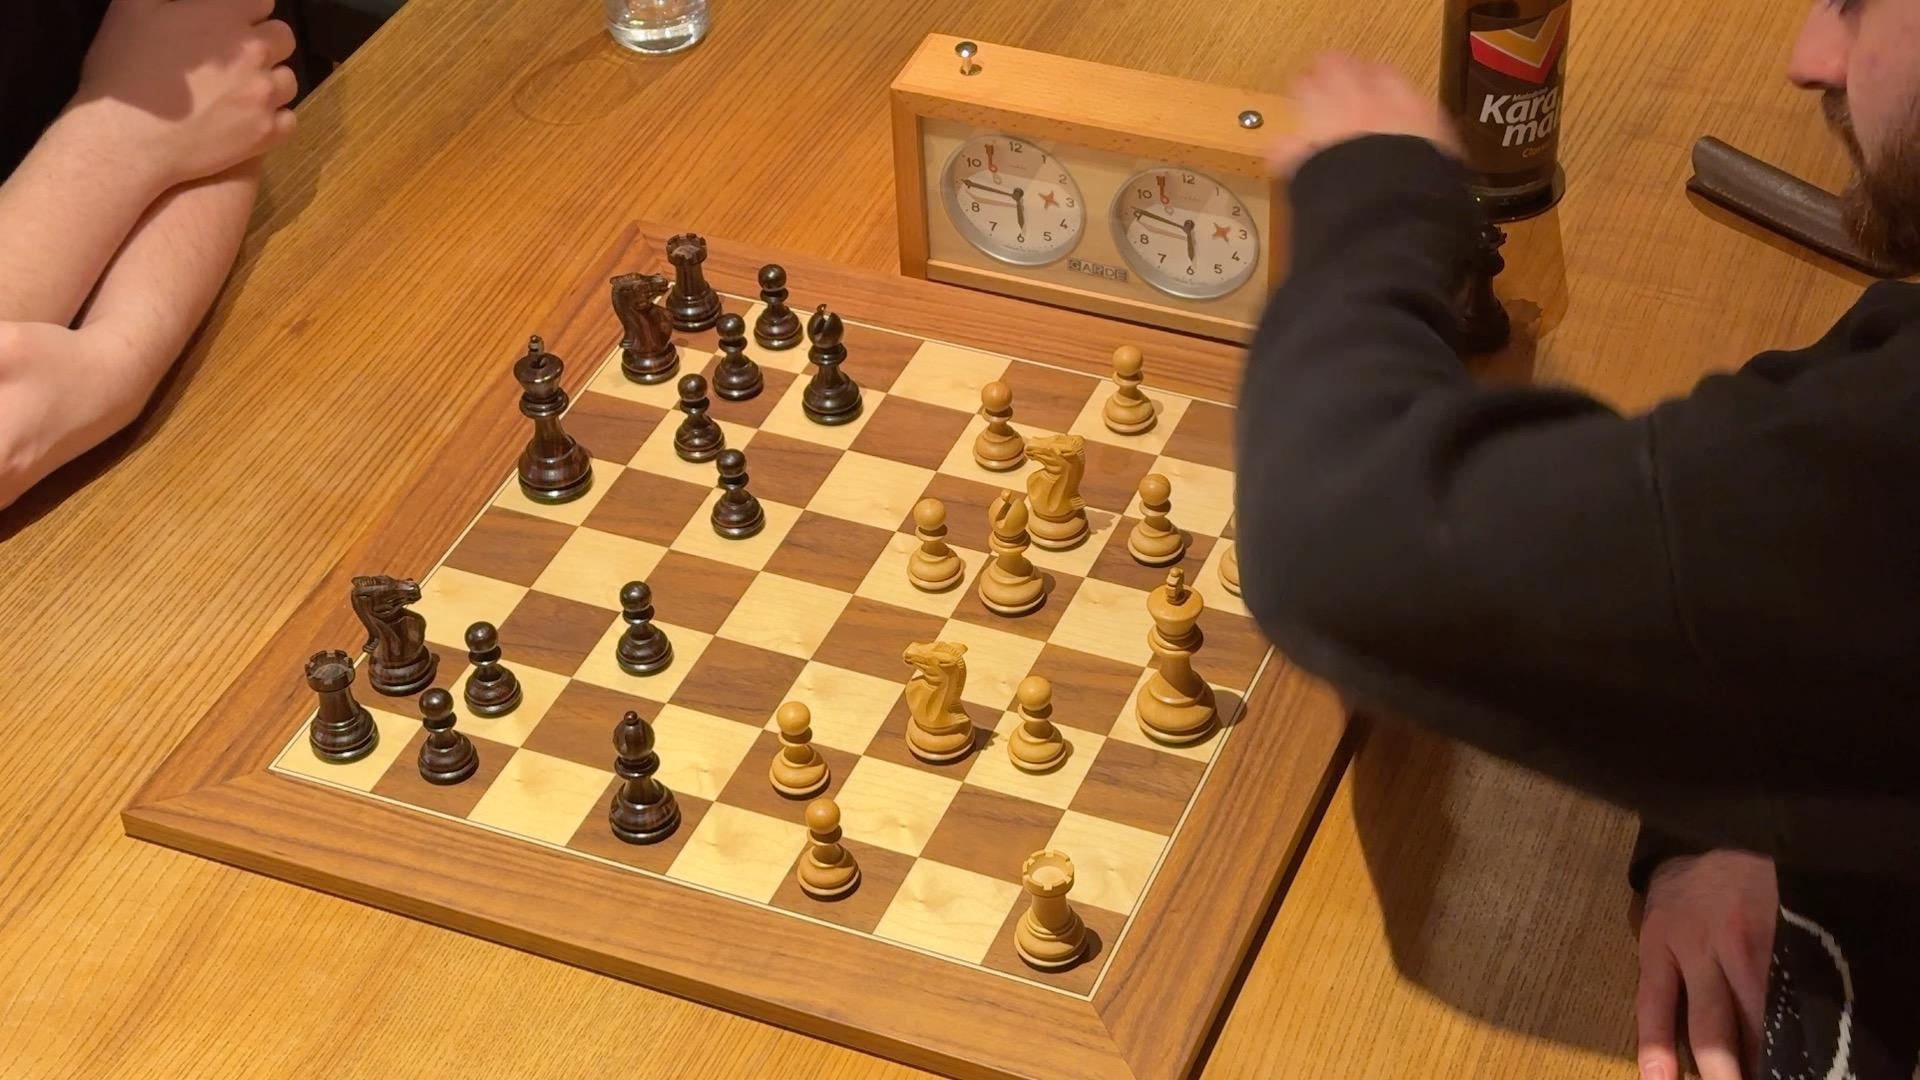Black Bishop: (597, 705, 692, 851), (794, 298, 873, 429)
Black King: (502, 330, 597, 505)
Black Knight: (344, 556, 440, 702), (597, 266, 684, 389)
Black Pawn: (605, 564, 676, 680), (409, 684, 483, 789), (454, 617, 524, 723), (704, 443, 770, 542), (666, 371, 731, 469), (709, 309, 767, 406), (748, 261, 808, 353)
Black Rook: (295, 641, 384, 771), (659, 227, 728, 338)
White Bishop: (975, 485, 1051, 618)
White King: (1127, 564, 1226, 752)
White Knight: (897, 638, 978, 766), (1021, 430, 1091, 556)
White Pawn: (793, 793, 862, 909), (764, 696, 835, 806), (903, 495, 971, 607), (1121, 467, 1192, 571), (1005, 669, 1072, 777), (1096, 339, 1164, 442), (967, 376, 1031, 477)
White Rook: (1004, 845, 1095, 977)
